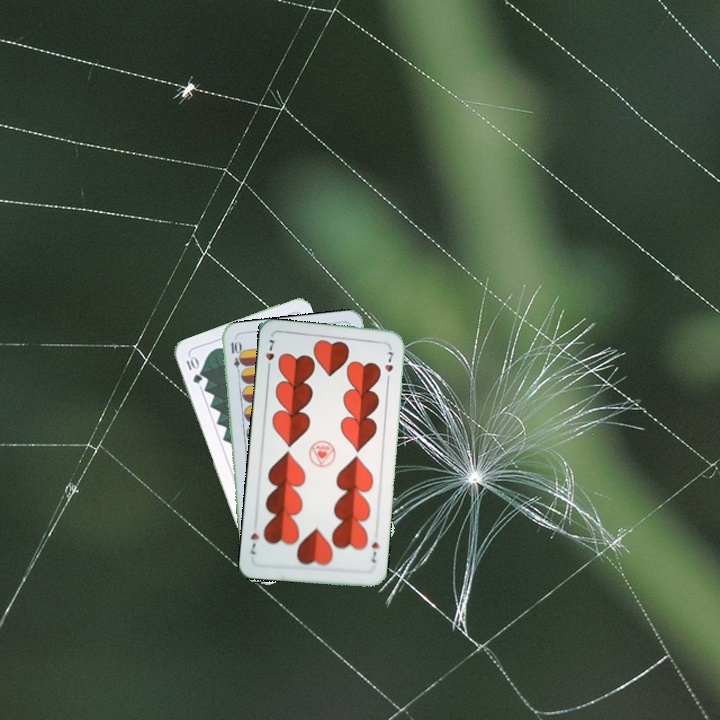E10: (226, 337, 244, 378)
G10: (182, 352, 205, 386)
H7: (262, 335, 278, 374), (367, 538, 382, 565)
